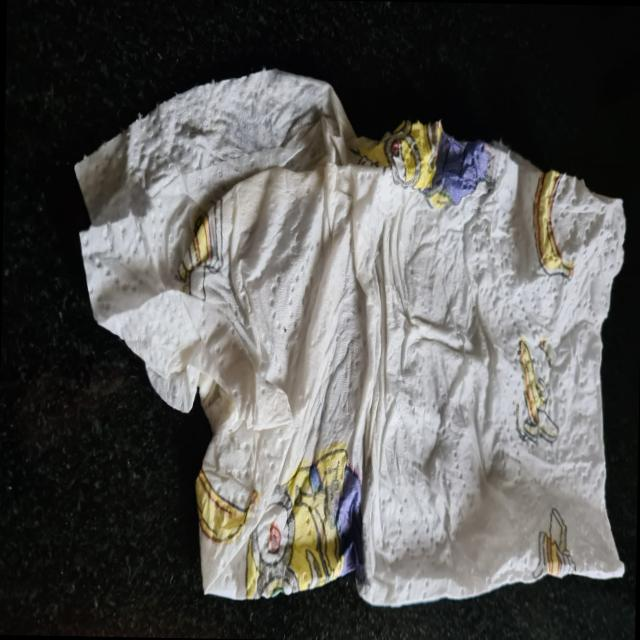organic waste: (59, 61, 634, 624)
